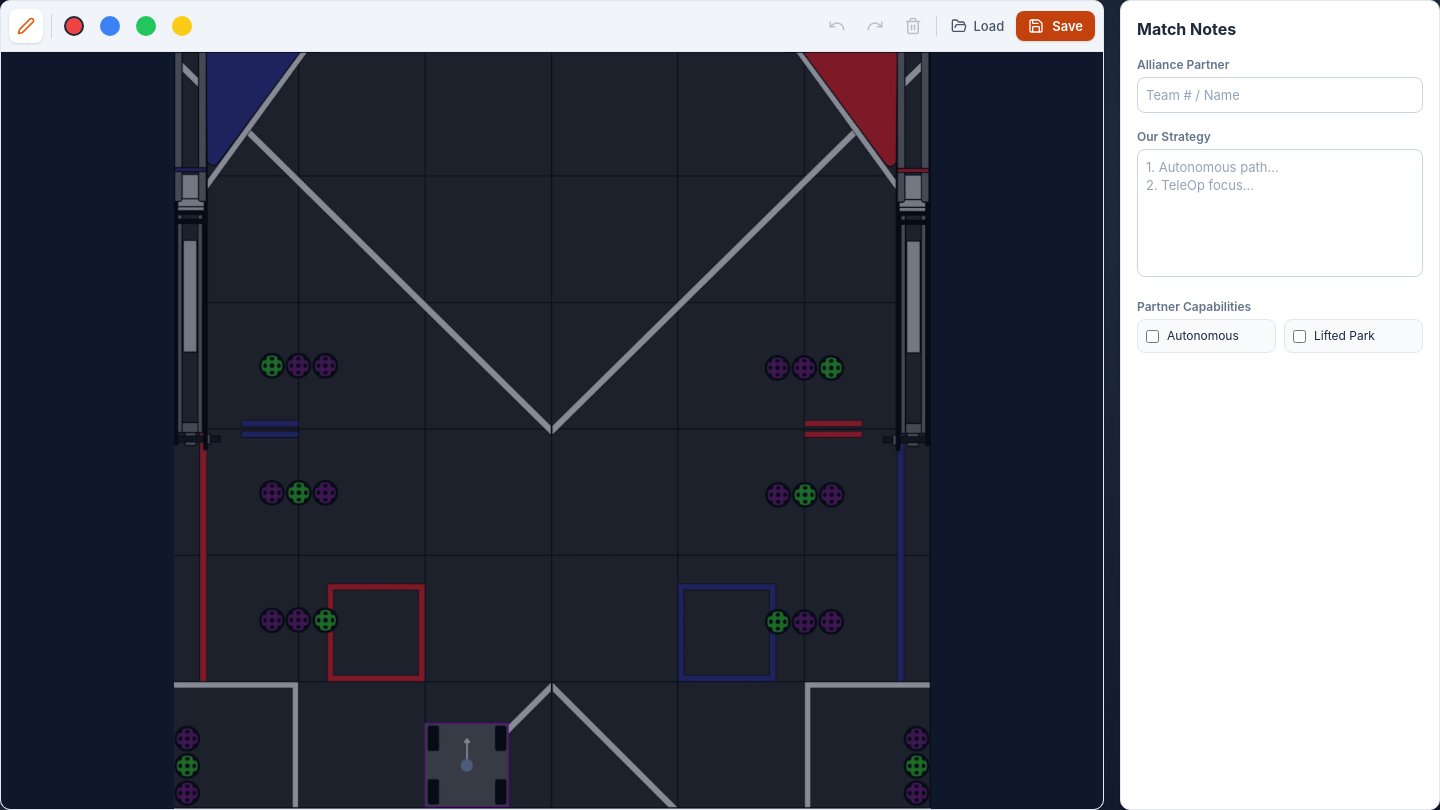
Test case: MatchPlanner › Load Plan Modal › opens load modal, loads a plan, and populates form
Click the button titled "Load Plans".
click(978, 26)  # box x1=944 y1=11 x2=1012 y2=41
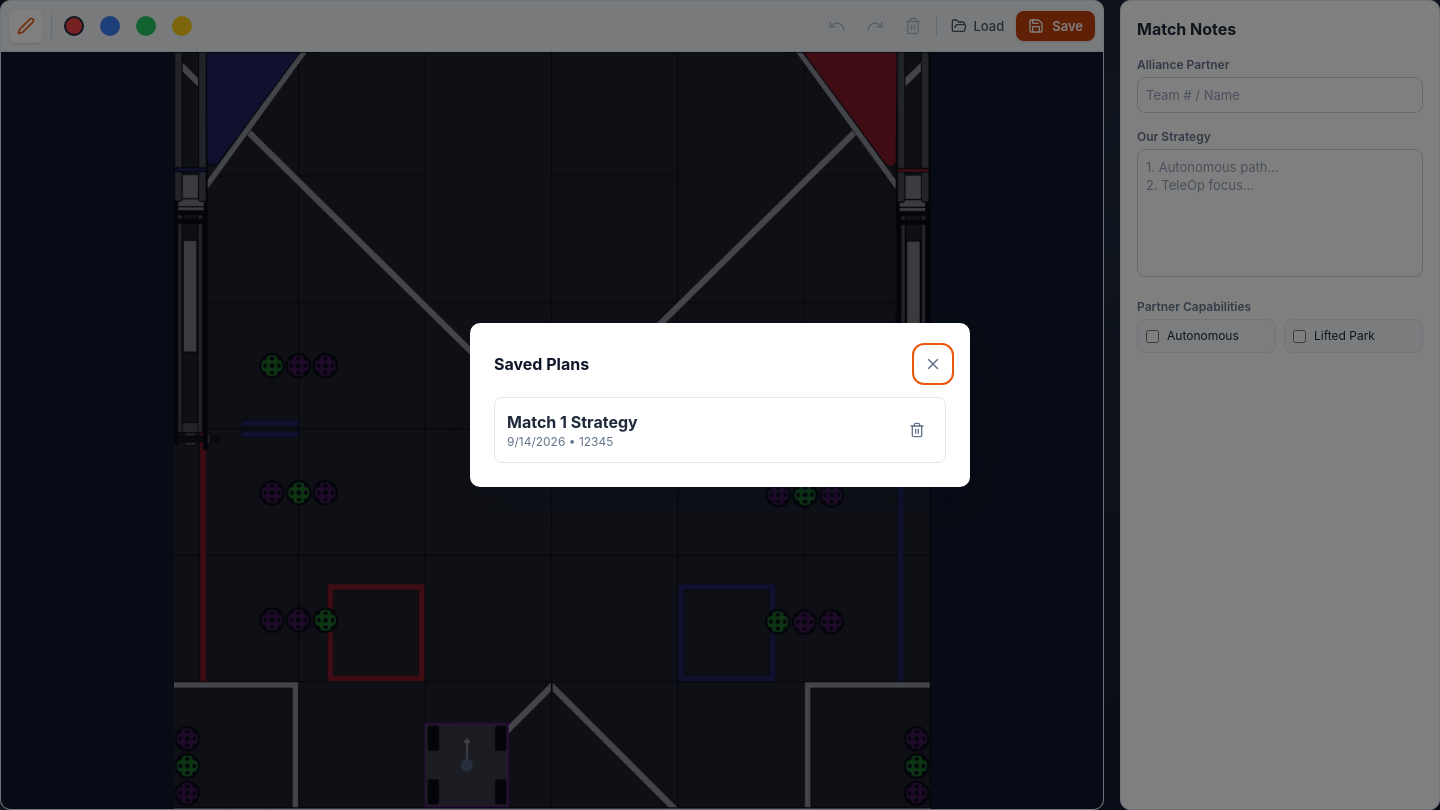
Now the heading "Saved Plans" is shown, box x1=494 y1=352 x2=589 y2=376
Now the text "Match 1 Strategy" is shown
Click the text "Match 1 Strategy".
click(572, 422)  # box x1=507 y1=412 x2=638 y2=432
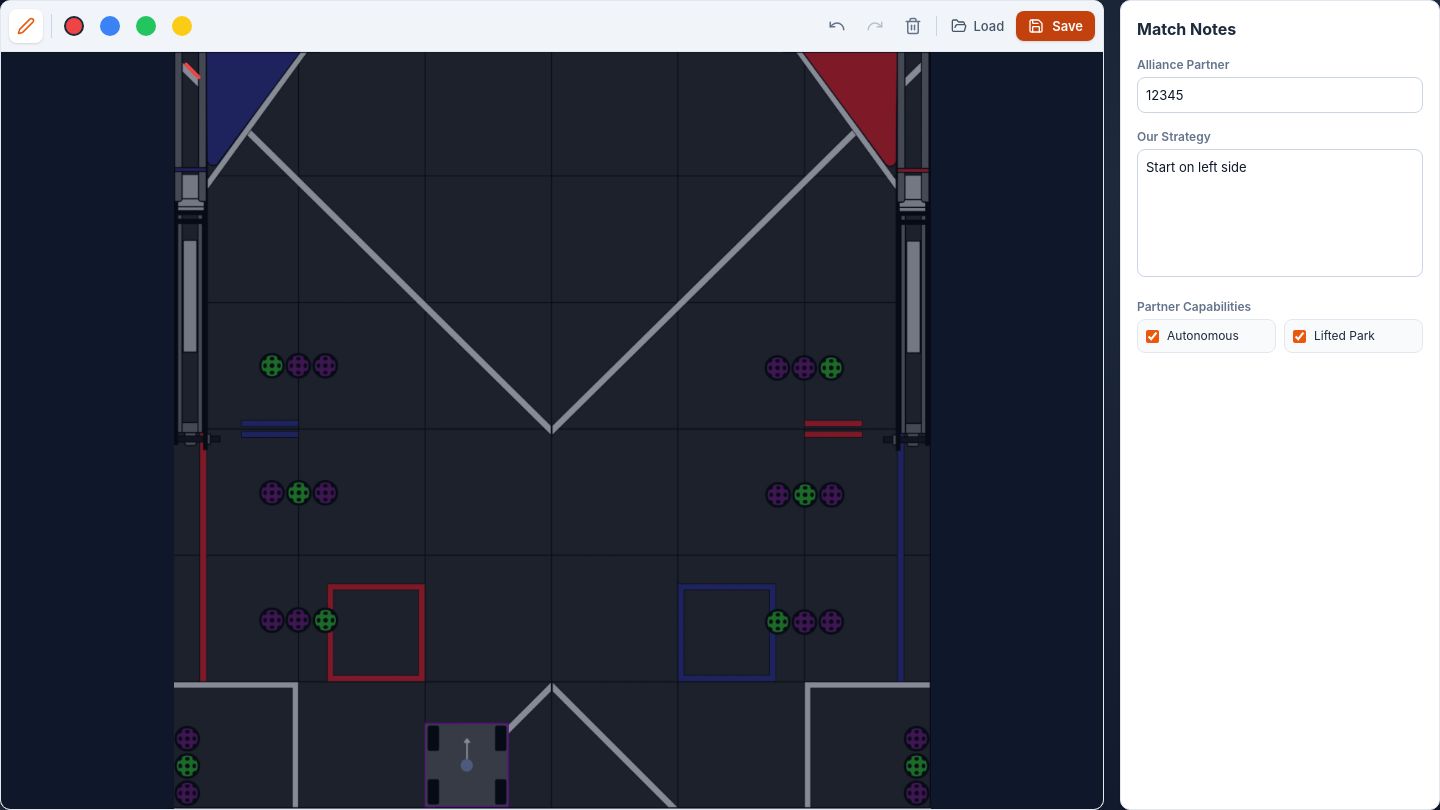
Now the field with placeholder "Team # / Name" holds "12345", box x1=1137 y1=77 x2=1423 y2=113
Now the text box with placeholder "1. Autonomous path... 2. TeleOp focus..." holds "Start on left side", box x1=1137 y1=149 x2=1423 y2=277
